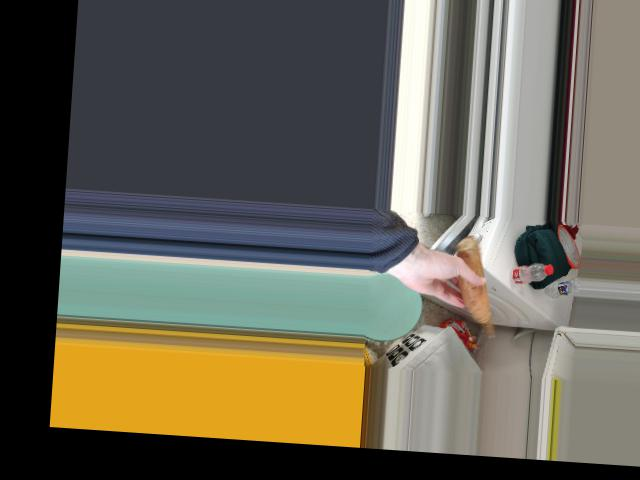sweet_potato: (447, 241, 504, 335)
